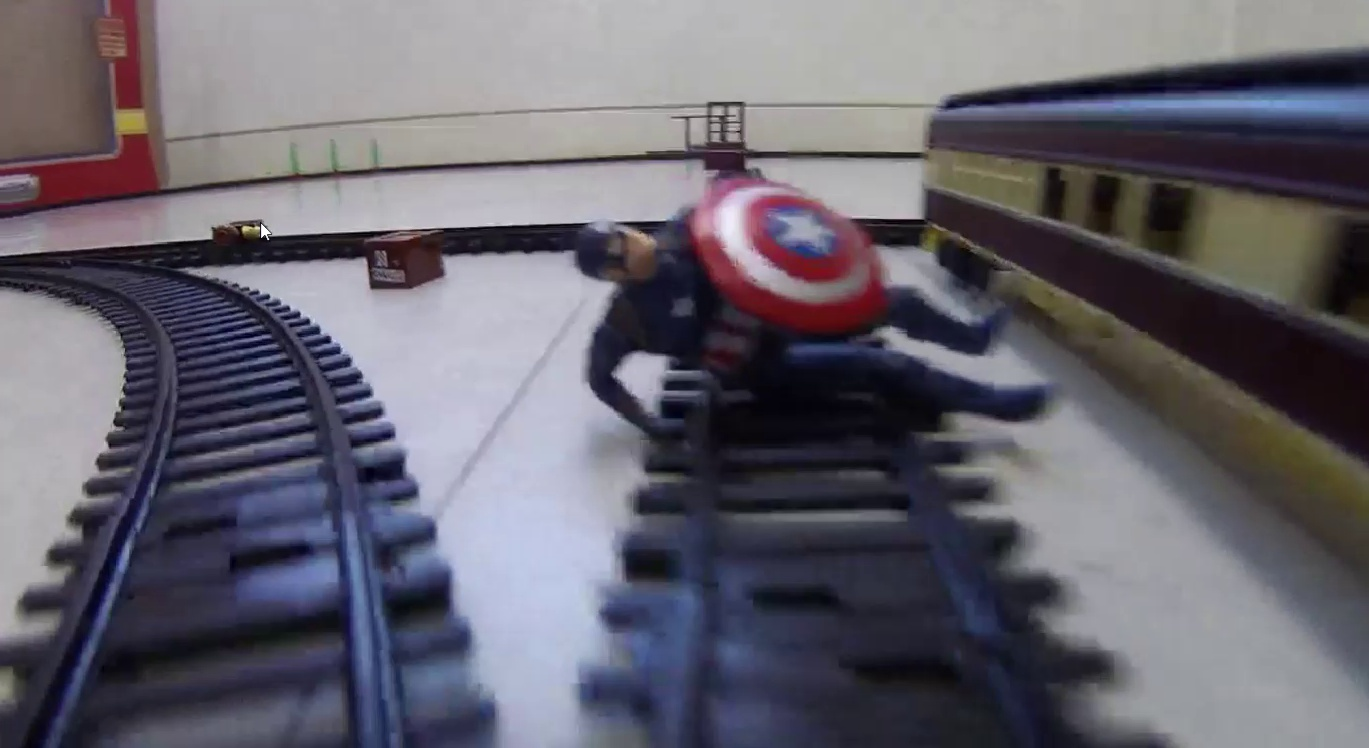box: (366, 232, 443, 287)
people: (578, 186, 1049, 431)
